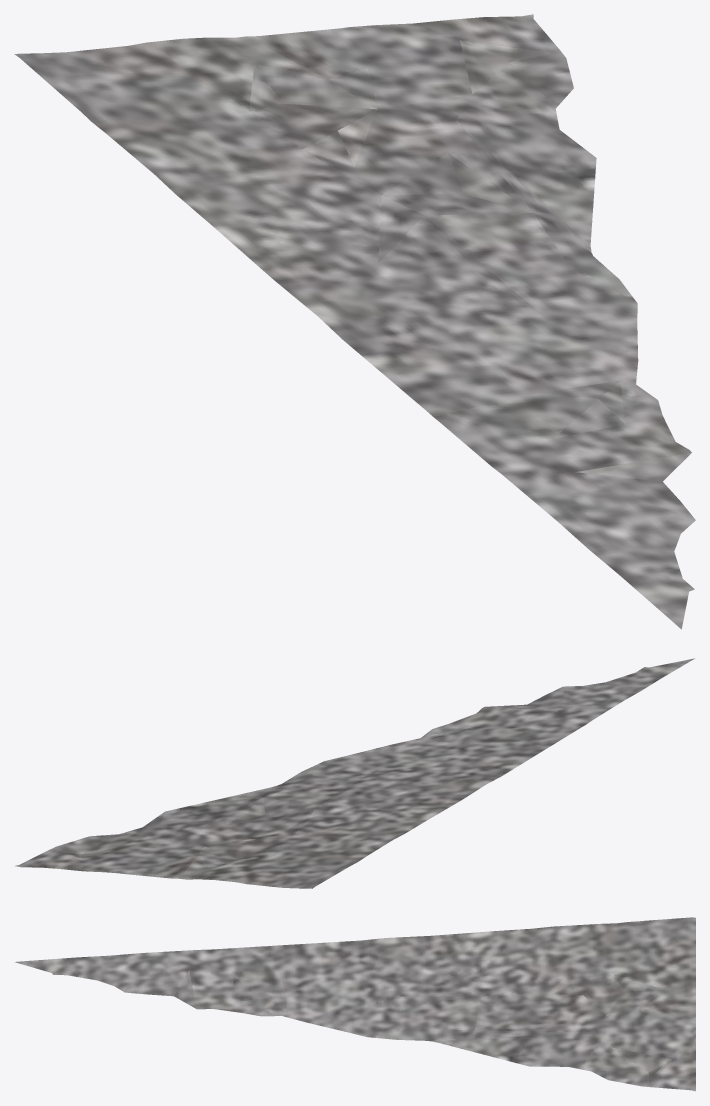
3 renders of one model, top to bottom at view 1: azimuth 30°, elevation 25°; view 2: azimuth 150°, elevation 25°; view 3: azimuth 270°, elevation 25°, orthographic. The views are drawn at different scales.
Size of the model in its own units: 0.3688 by 0.0591 by 0.8206.
1 material, 1 textured.
